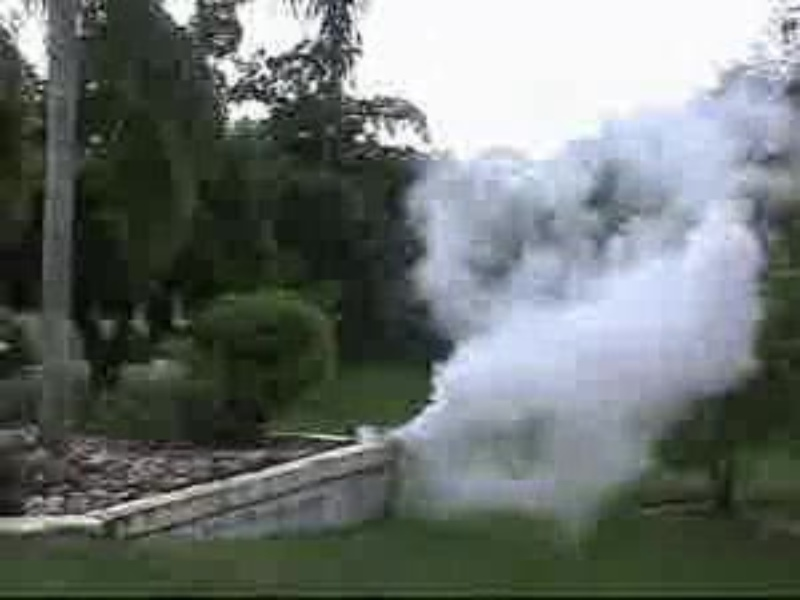smoke: (441, 158, 676, 457)
